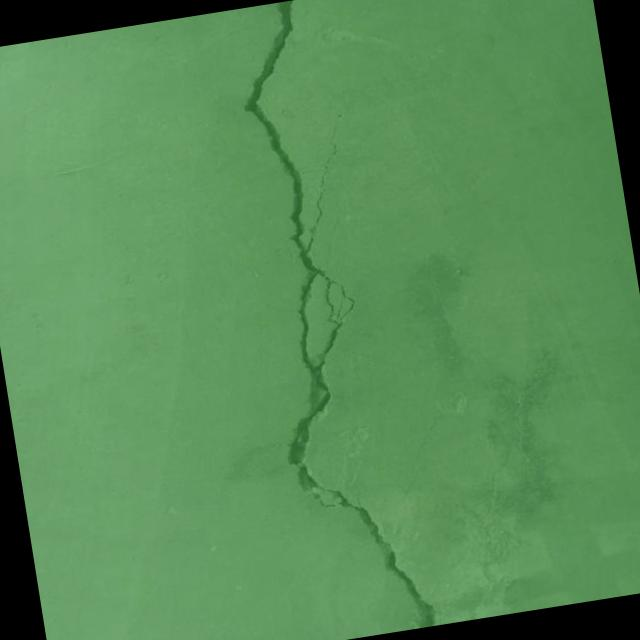crack: (216, 0, 439, 640)
